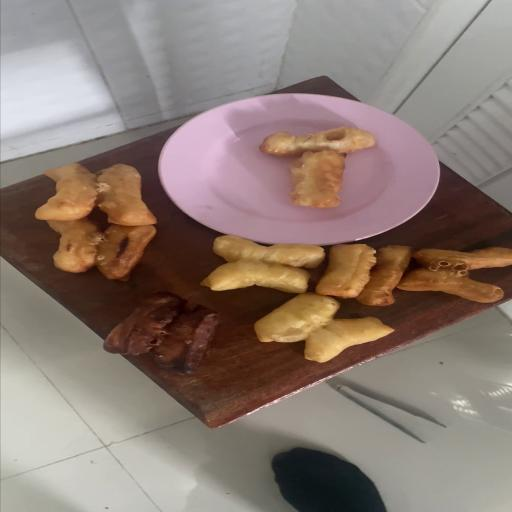street_burnt_defect: (103, 292, 217, 372), (46, 220, 156, 278)
street_golden_good: (33, 163, 158, 224)
